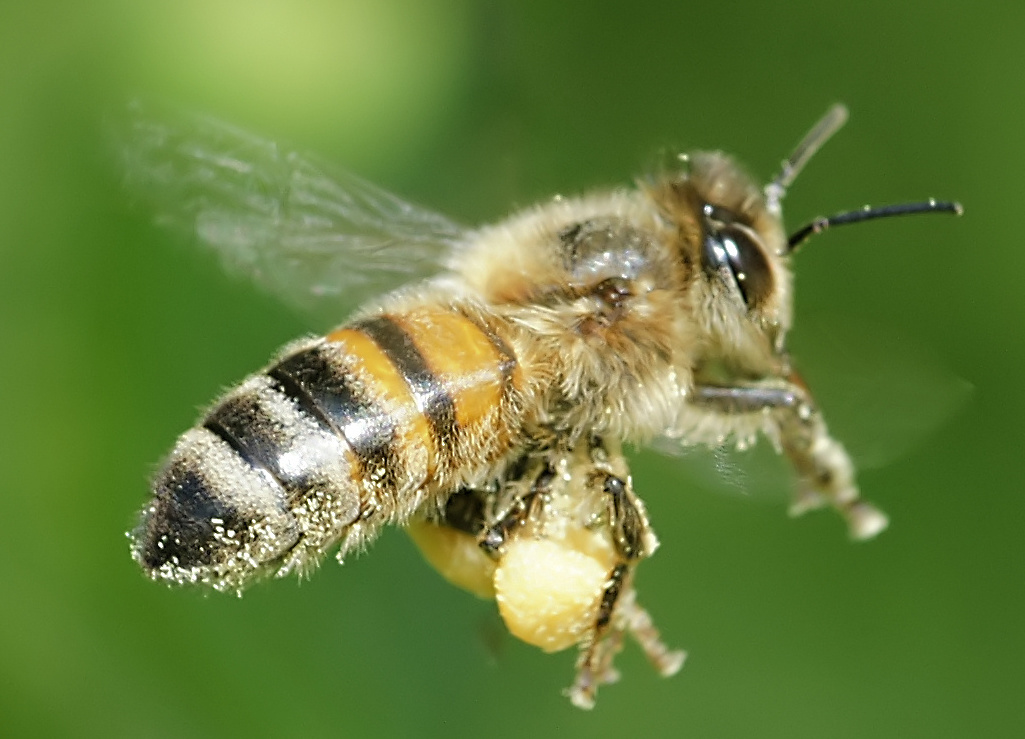bee: (53, 42, 998, 706)
